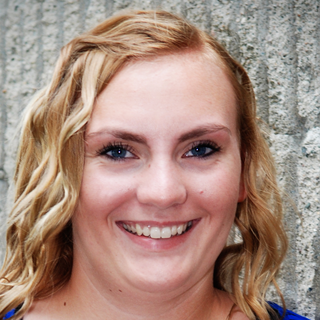eye: (91, 141, 148, 165), (175, 136, 224, 163)
